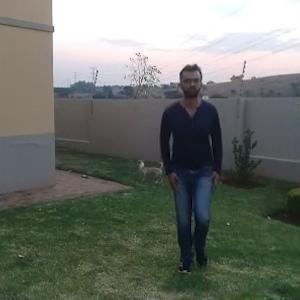follow: (158, 66, 220, 275)
